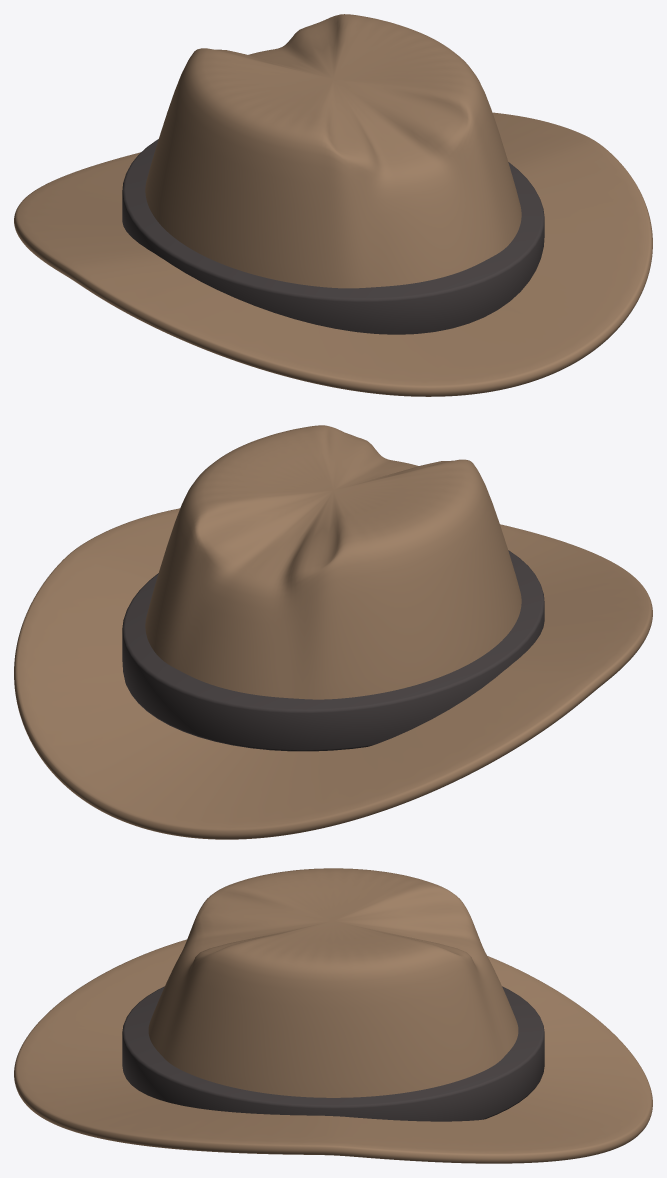
File: hat_fedora.glb
3 views of the same model, one above another, from view 1: azimuth 30°, elevation 25°; view 2: azimuth 150°, elevation 25°; view 3: azimuth 270°, elevation 25° (orthographic). The views are drawn at different scales.
Parts seen in each view (by area): view 1: fedora; view 2: fedora; view 3: fedora.
Part boxes in pixels (x1,y1,x2,y2): fedora: (14, 14, 652, 396); fedora: (14, 425, 652, 839); fedora: (14, 868, 652, 1163).
Size of the model in its own units: 0.3933 by 0.1548 by 0.4635.
